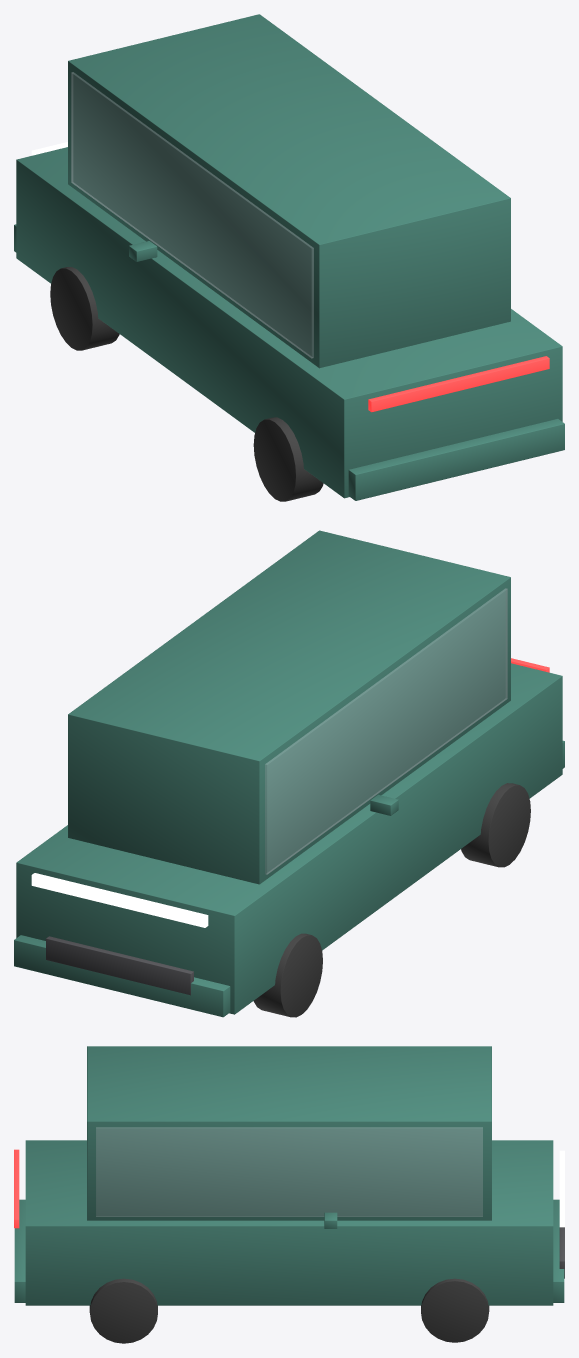
Rendered from vehicle.glb.
3 renders of one model, top to bottom at view 1: azimuth 30°, elevation 25°; view 2: azimuth 150°, elevation 25°; view 3: azimuth 270°, elevation 25°, orthographic. The views are drawn at different scales.
Parts seen in each view (by area): view 1: BODY_Roof, BODY_Main, GLASS_Greenhouse, BODY_Bumpers_Rear, WHEEL_RR_Tire, WHEEL_FR_Tire, LIGHT_Taillights; view 2: BODY_Roof, BODY_Main, GLASS_Greenhouse, BODY_Bumpers_Front, WHEEL_RR_Tire, BODY_Grille, WHEEL_FR_Tire, LIGHT_Headlights; view 3: BODY_Roof, BODY_Main, GLASS_Greenhouse, WHEEL_RL_Tire, WHEEL_FL_Tire, BODY_Bumpers_Rear, BODY_Bumpers_Front, LIGHT_Taillights, LIGHT_Headlights.
Boxes of the visible parts, bbox=[...] form: BODY_Roof: bbox=[68, 14, 510, 368]; BODY_Main: bbox=[16, 147, 562, 498]; GLASS_Greenhouse: bbox=[71, 72, 313, 358]; BODY_Bumpers_Rear: bbox=[348, 419, 564, 500]; WHEEL_RR_Tire: bbox=[253, 417, 323, 501]; WHEEL_FR_Tire: bbox=[50, 267, 119, 350]; LIGHT_Taillights: bbox=[368, 356, 549, 412]; BODY_Roof: bbox=[68, 530, 510, 884]; BODY_Main: bbox=[16, 663, 562, 1014]; GLASS_Greenhouse: bbox=[265, 588, 507, 874]; BODY_Bumpers_Front: bbox=[14, 935, 230, 1017]; WHEEL_RR_Tire: bbox=[461, 783, 530, 867]; BODY_Grille: bbox=[46, 936, 193, 995]; WHEEL_FR_Tire: bbox=[253, 933, 322, 1017]; LIGHT_Headlights: bbox=[31, 873, 208, 927]; BODY_Roof: bbox=[87, 1046, 491, 1220]; BODY_Main: bbox=[25, 1140, 553, 1305]; GLASS_Greenhouse: bbox=[96, 1127, 482, 1216]; WHEEL_RL_Tire: bbox=[89, 1278, 157, 1343]; WHEEL_FL_Tire: bbox=[421, 1278, 489, 1342]; BODY_Bumpers_Rear: bbox=[14, 1199, 25, 1302]; BODY_Bumpers_Front: bbox=[553, 1199, 564, 1302]; LIGHT_Taillights: bbox=[14, 1149, 19, 1228]; LIGHT_Headlights: bbox=[559, 1150, 564, 1227].
Size of the model in its own units: 2.28 by 2.21 by 5.16.
